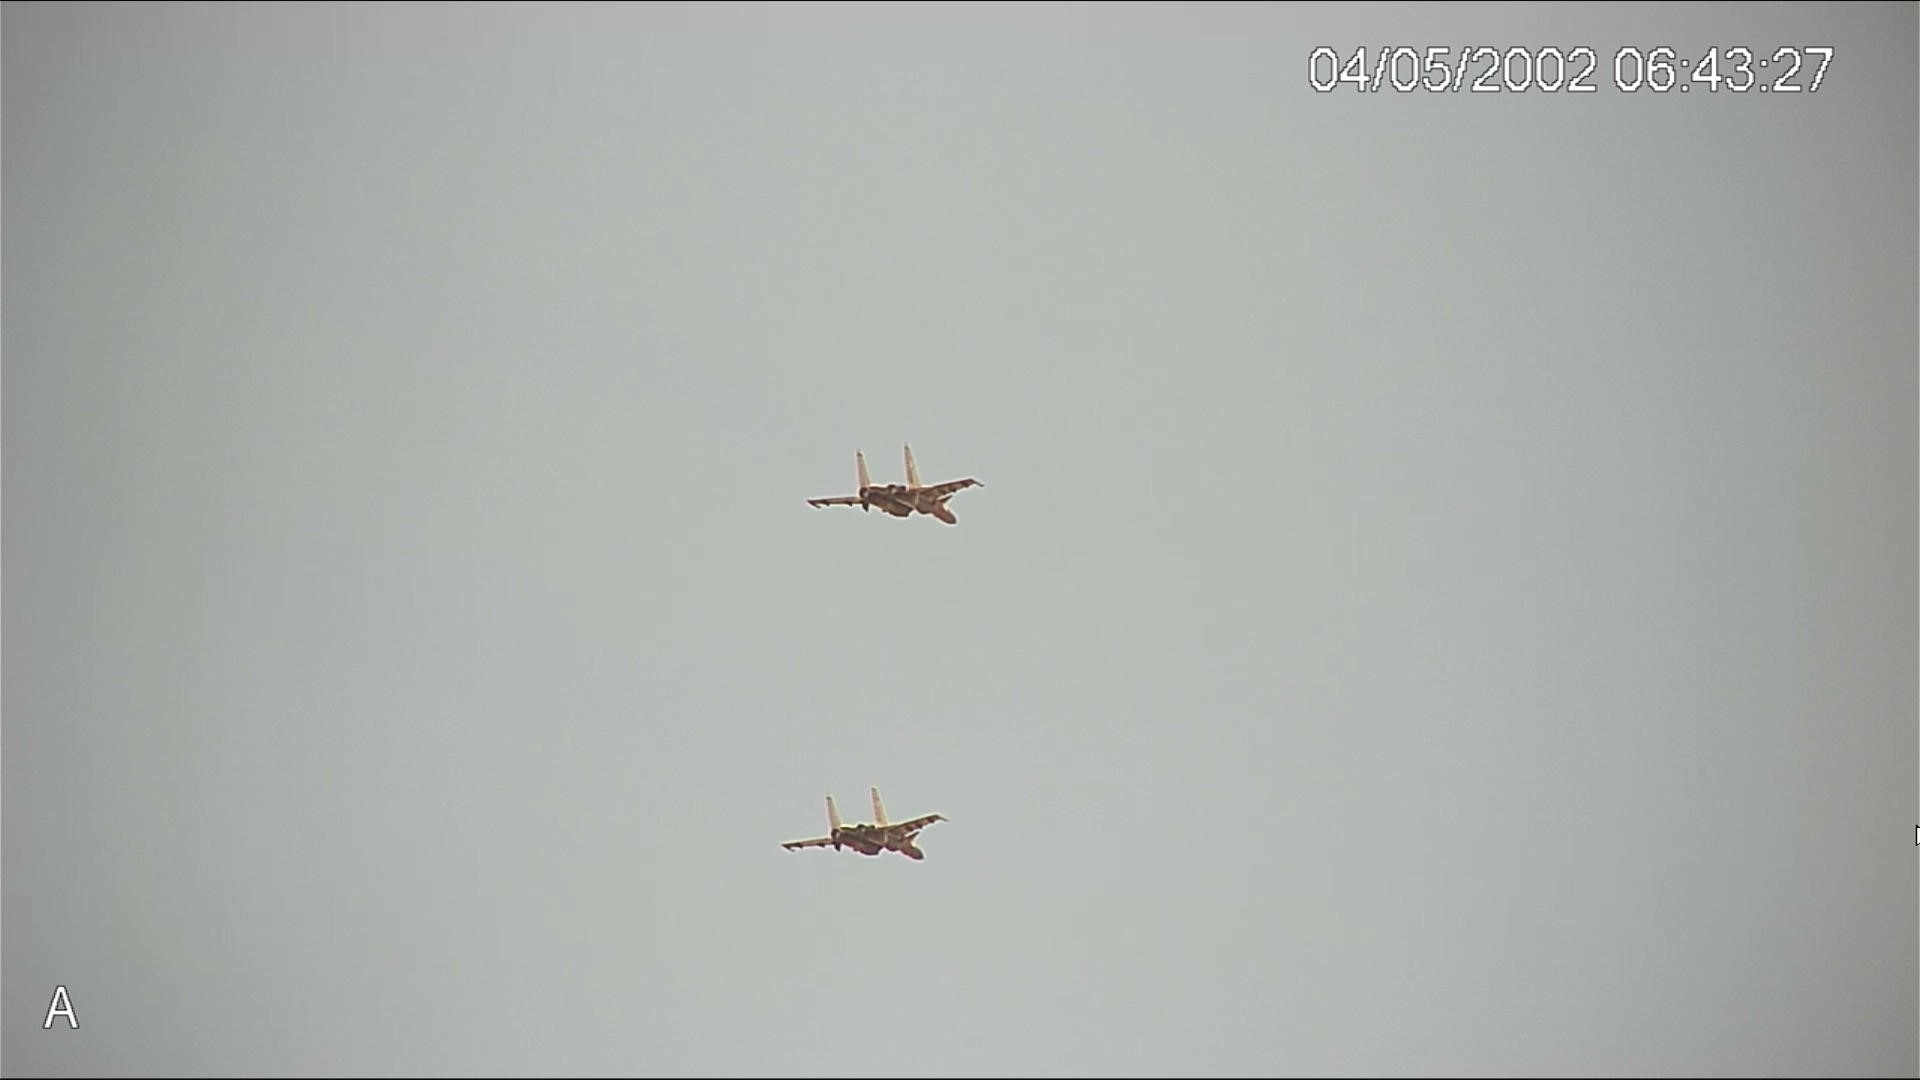SU_30: (807, 448, 975, 535), (781, 794, 932, 866)
